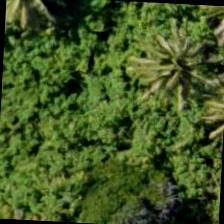Kelapa_Sawit: (139, 20, 223, 115)
